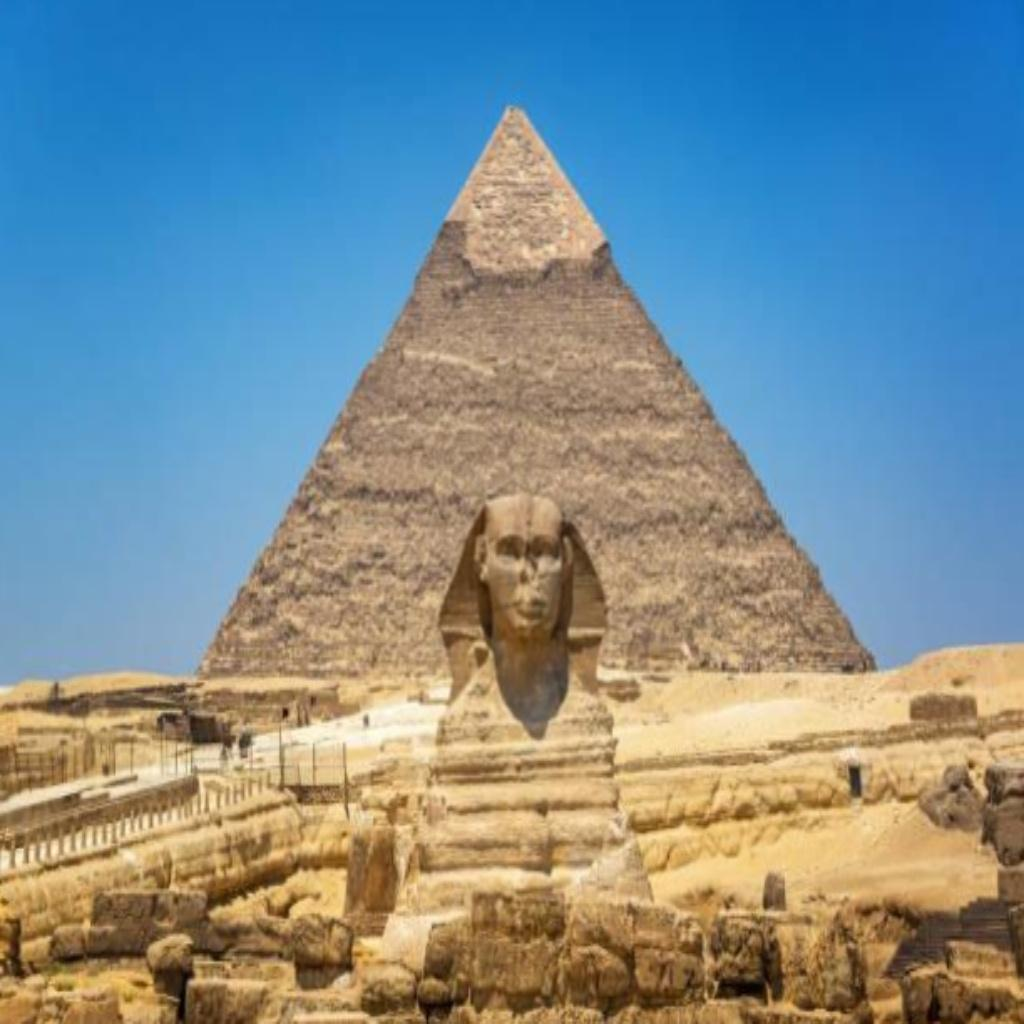Sphinx: (408, 487, 642, 906)
